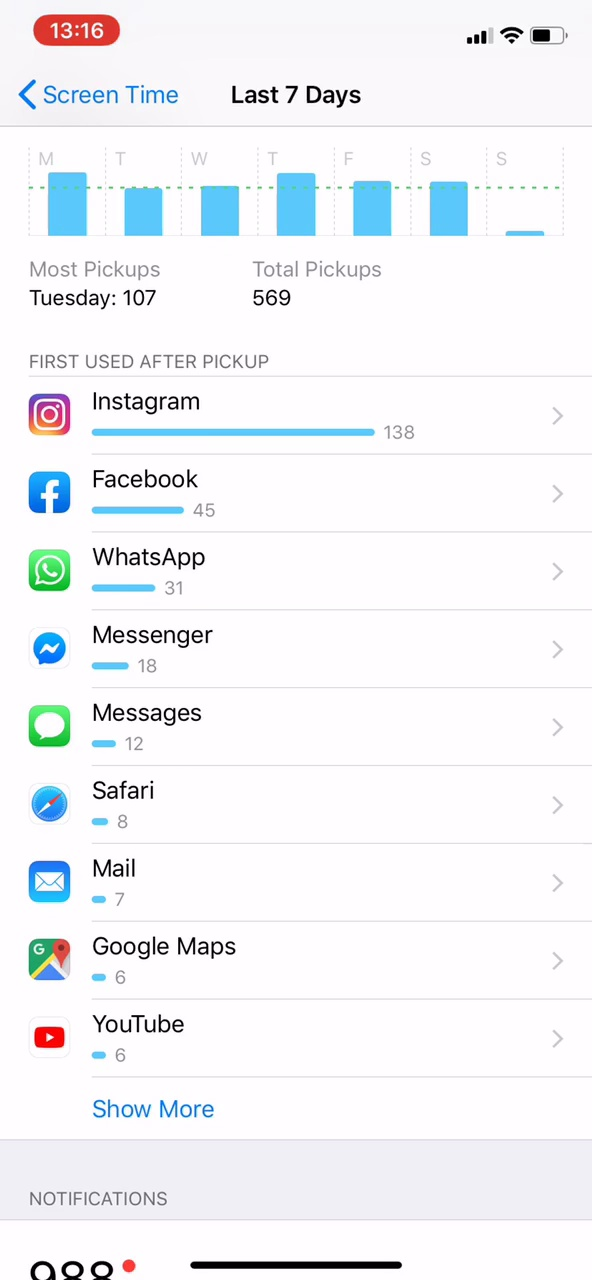pick_app: (23, 382, 459, 453), (14, 928, 279, 986), (20, 997, 231, 1067), (25, 691, 247, 757), (23, 464, 240, 530), (22, 542, 242, 603), (23, 619, 248, 672), (15, 775, 207, 836), (17, 853, 190, 908)
pick_over: (28, 250, 434, 327)
week: (204, 73, 388, 111)
